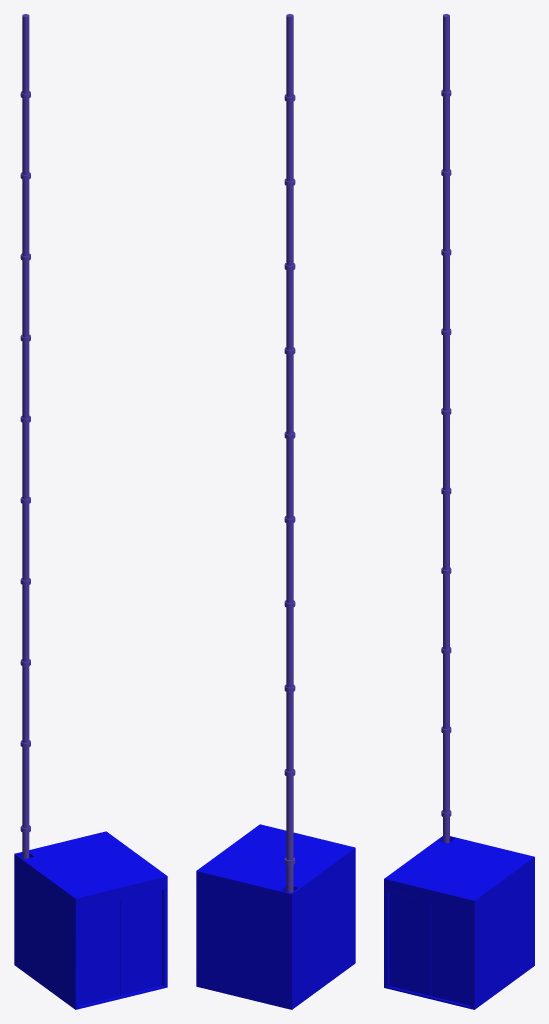
The model's file is ascensor.fbx.
3 views of the same model, side by side, from view 1: azimuth 30°, elevation 25°; view 2: azimuth 150°, elevation 25°; view 3: azimuth 330°, elevation 25° (orthographic). The views are drawn at different scales.
Parts seen in each view (by area): view 1: Box011, Cylinder002, Object005, Object048; view 2: Box011, Cylinder002; view 3: Box011, Cylinder002, Object048, Object005.
Boxes of the visible parts, x1,y1,x2,y2 form: Box011: [14, 831, 167, 1009]; Cylinder002: [20, 14, 30, 859]; Object005: [120, 890, 162, 995]; Object048: [79, 900, 119, 1005]; Box011: [196, 824, 355, 1009]; Cylinder002: [284, 14, 295, 892]; Box011: [384, 836, 534, 1009]; Cylinder002: [441, 14, 451, 843]; Object048: [389, 892, 430, 995]; Object005: [430, 902, 470, 1005].
Size of the model in its own units: 49.63 by 490 by 57.31.
